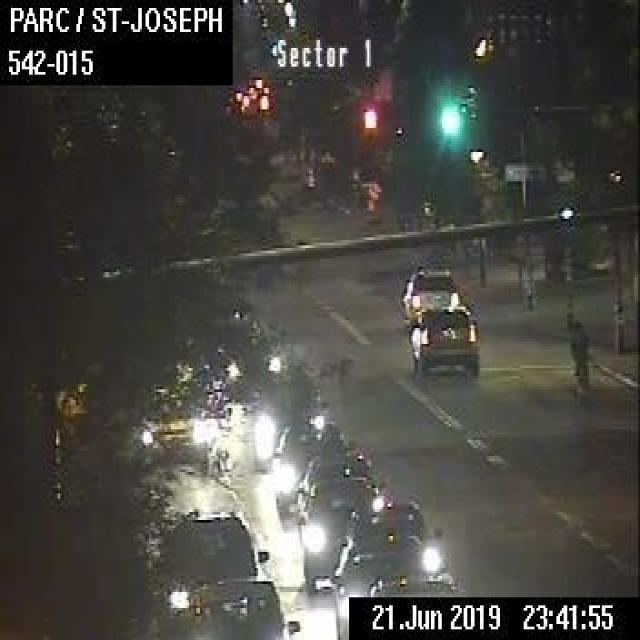cyclist: (567, 314, 590, 386)
vehicle: (154, 510, 268, 634), (312, 542, 434, 637), (302, 477, 397, 588), (272, 420, 351, 523), (180, 574, 299, 637), (251, 376, 328, 470), (298, 450, 377, 527), (408, 303, 480, 384), (340, 489, 442, 543), (399, 264, 460, 323)
